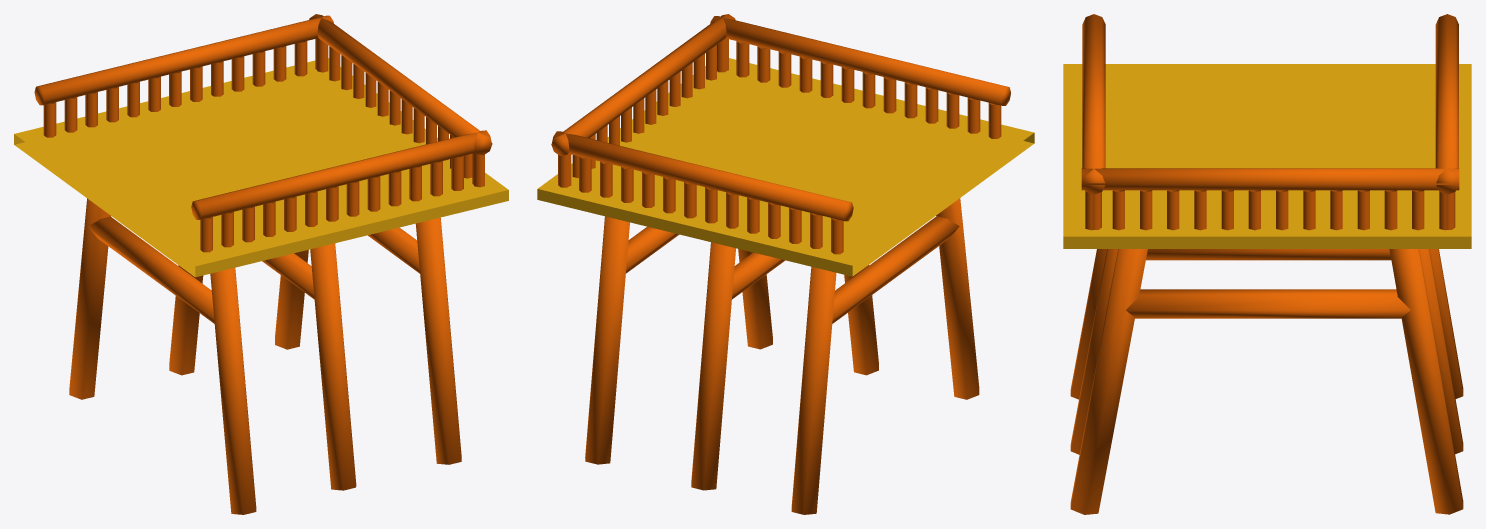
Rendered from bridge_2.fbx.
3 views of the same model, side by side, from view 1: azimuth 30°, elevation 25°; view 2: azimuth 150°, elevation 25°; view 3: azimuth 270°, elevation 25° (orthographic). The views are drawn at different scales.
Visible parts, largest first — view 1: bridge_2; view 2: bridge_2; view 3: bridge_2.
Boxes of the visible parts, x1,y1,x2,y2 form: bridge_2: (14,14,508,514); bridge_2: (537,14,1034,514); bridge_2: (1063,14,1471,514).
Size of the model in its own units: 1500 by 1457 by 1500.
